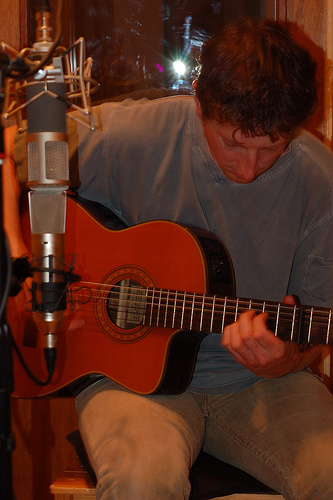guitar: (18, 189, 333, 394)
